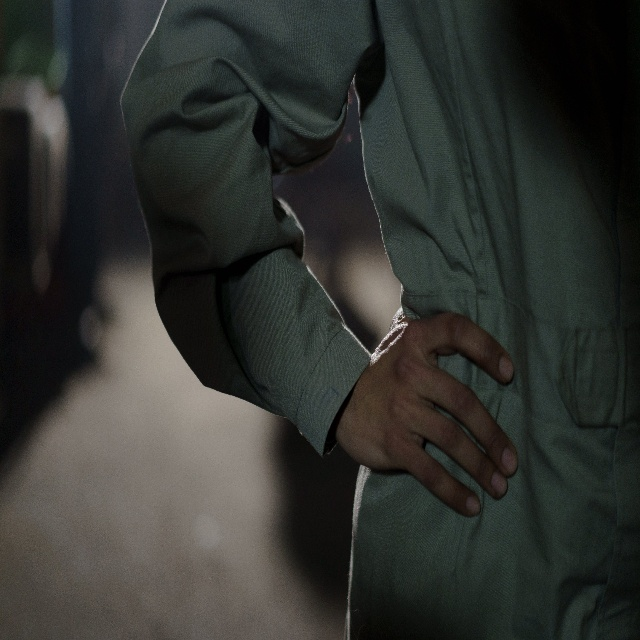Sin_guantes: (337, 300, 519, 518)
